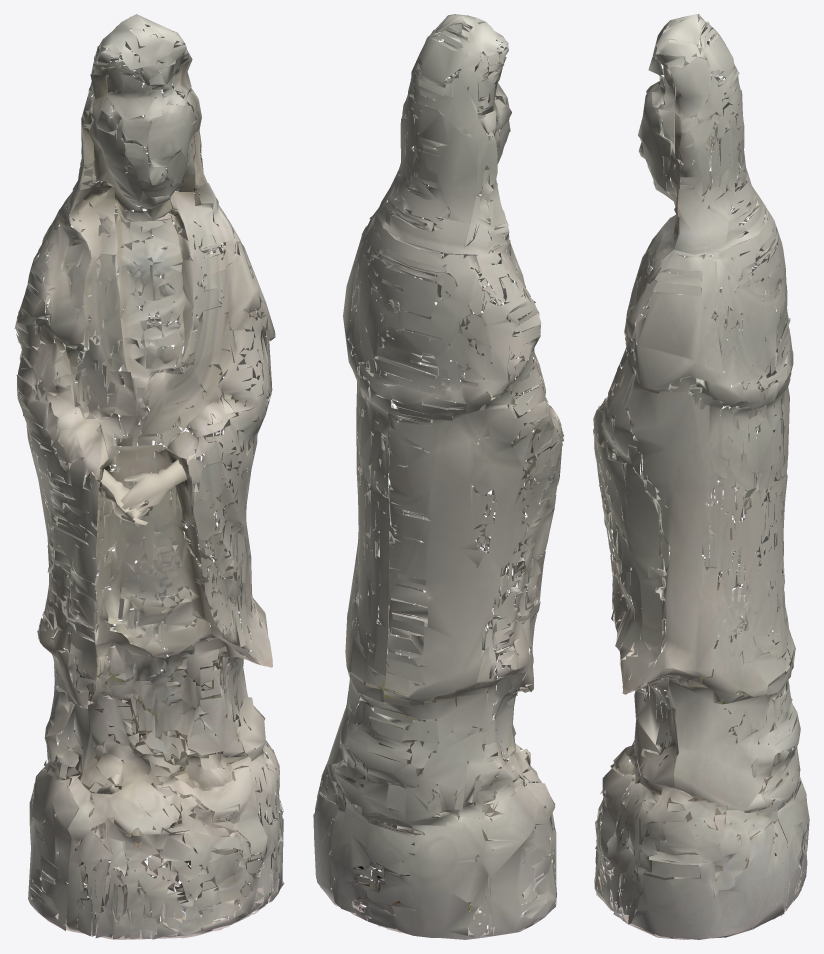
3 renders of one model, left to right at view 1: azimuth 30°, elevation 25°; view 2: azimuth 150°, elevation 25°; view 3: azimuth 270°, elevation 25°, orthographic. The views are drawn at different scales.
Visible parts, largest first — view 1: statue-035; view 2: statue-035; view 3: statue-035.
Boxes of the visible parts, bbox=[...] form: statue-035: bbox=[14, 14, 284, 939]; statue-035: bbox=[313, 14, 564, 939]; statue-035: bbox=[593, 14, 809, 939].
Size of the model in its own units: 0.2748 by 0.9996 by 0.227.
2 materials, 2 textured.
